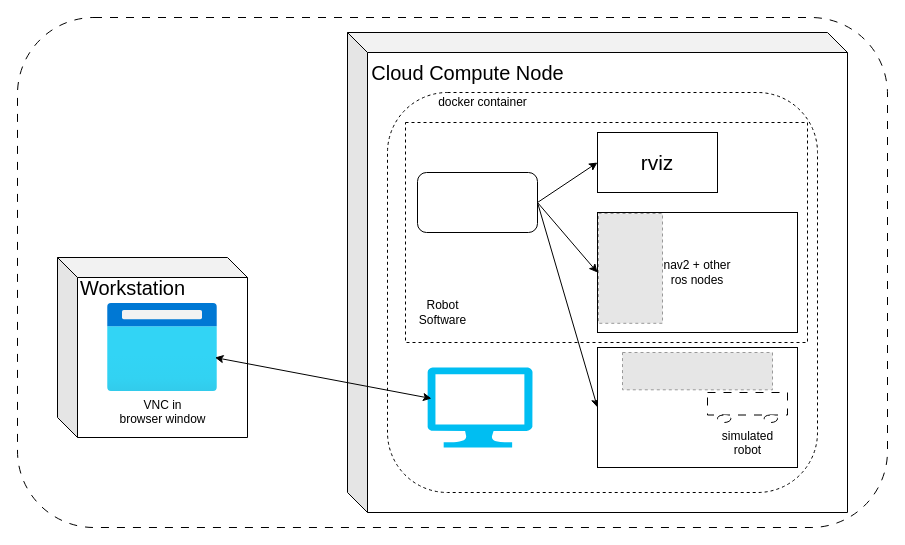
This 905x545 diagram has some shape labels left out. Grey dashed boxes stand in for pictures. The shapes that lost their labels are listed below. From the top down, each one's centre as x and y in pixels, then its label:
point (477, 202): linorobot2 packages
point (479, 407): Virtual Monitor
